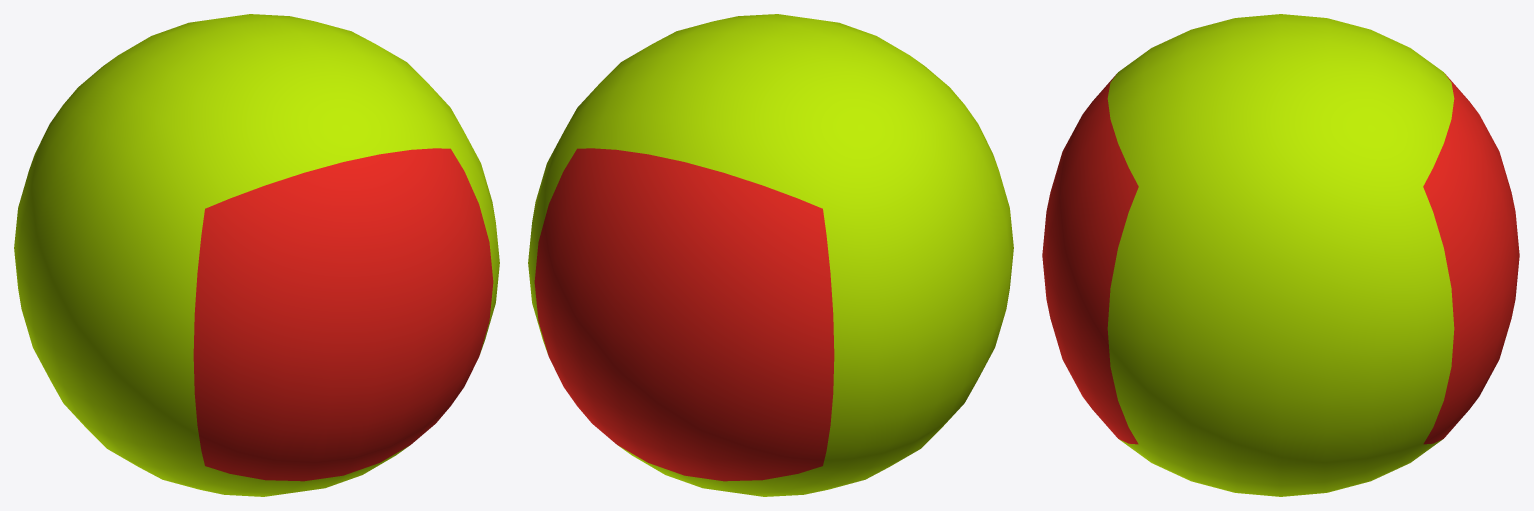
The model's file is drone01.glb.
3 views of the same model, side by side, from view 1: azimuth 30°, elevation 25°; view 2: azimuth 150°, elevation 25°; view 3: azimuth 270°, elevation 25° (orthographic).
Parts seen in each view (by area): view 1: Cube; view 2: Cube; view 3: Cube.
Boxes of the visible parts, <box> form: Cube: <box>14,14,499,496</box>; Cube: <box>528,14,1013,496</box>; Cube: <box>1042,14,1519,496</box>.
Size of the model in its own units: 1.68 by 1.68 by 1.68.
